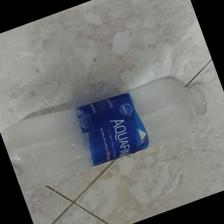Aquafina: (1, 76, 220, 189)
